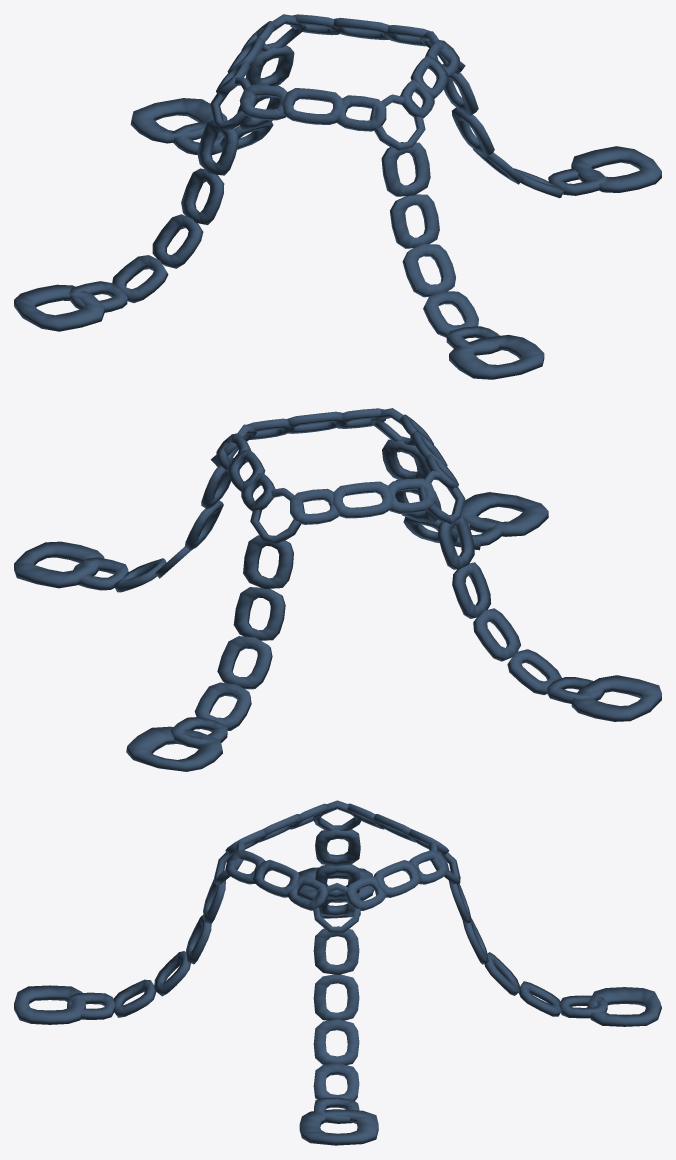
Rendered from StrappedCube_04.fbx.
The picture shows the model from 3 angles, top to bottom: view 1: azimuth 30°, elevation 25°; view 2: azimuth 150°, elevation 25°; view 3: azimuth 270°, elevation 25°; orthographic projection. The views are drawn at different scales.
Visible parts, largest first — view 1: Strapping.027, Strapping.038, Strapping.014, Strapping.018, Strapping.009, Strapping.032, Strapping.024, Strapping.022, Strapping.020, Strapping.023, Strapping.034, Strapping.045 (+14 smaller); view 2: Strapping.027, Strapping.014, Strapping.018, Strapping.024, Strapping.009, Strapping.032, Strapping.010, Strapping.012, Strapping.013, Strapping.011, Strapping.034, Strapping.045 (+14 smaller); view 3: Strapping.027, Strapping.032, Strapping.009, Strapping.024, Strapping.018, Strapping.038, Strapping.043, Strapping.015, Strapping.017, Strapping.019, Strapping.046, Strapping.016 (+13 smaller).
Part boxes in pixels (x1,y1,x2,y2): Strapping.027: (210,14,465,150); Strapping.038: (215,77,386,131); Strapping.014: (14,284,104,331); Strapping.018: (571,146,661,192); Strapping.009: (449,334,544,379); Strapping.032: (369,40,459,149); Strapping.024: (130,98,227,143); Strapping.022: (390,194,439,248); Strapping.020: (402,244,455,297); Strapping.023: (381,142,430,196); Strapping.034: (152,214,203,268); Strapping.045: (181,168,224,225); Strapping.027: (213,411,465,542); Strapping.014: (571,675,661,721); Strapping.018: (14,541,104,588); Strapping.024: (126,726,222,771); Strapping.009: (462,492,548,536); Strapping.032: (243,408,420,443); Strapping.010: (217,636,272,689); Strapping.012: (233,587,285,640); Strapping.013: (243,535,293,588); Strapping.011: (194,682,251,730); Strapping.034: (473,608,520,661); Strapping.045: (452,562,491,618); Strapping.027: (214,801,460,932); Strapping.032: (214,841,329,908); Strapping.009: (14,985,85,1024); Strapping.024: (587,987,661,1026); Strapping.018: (299,1109,378,1145); Strapping.038: (225,800,362,855); Strapping.043: (314,852,449,932); Strapping.015: (313,1019,359,1065); Strapping.017: (313,974,359,1020); Strapping.019: (313,926,359,974); Strapping.046: (315,827,360,866); Strapping.016: (313,1063,359,1100).
Bounding box in the file's own units: 729 × 212 × 730.
